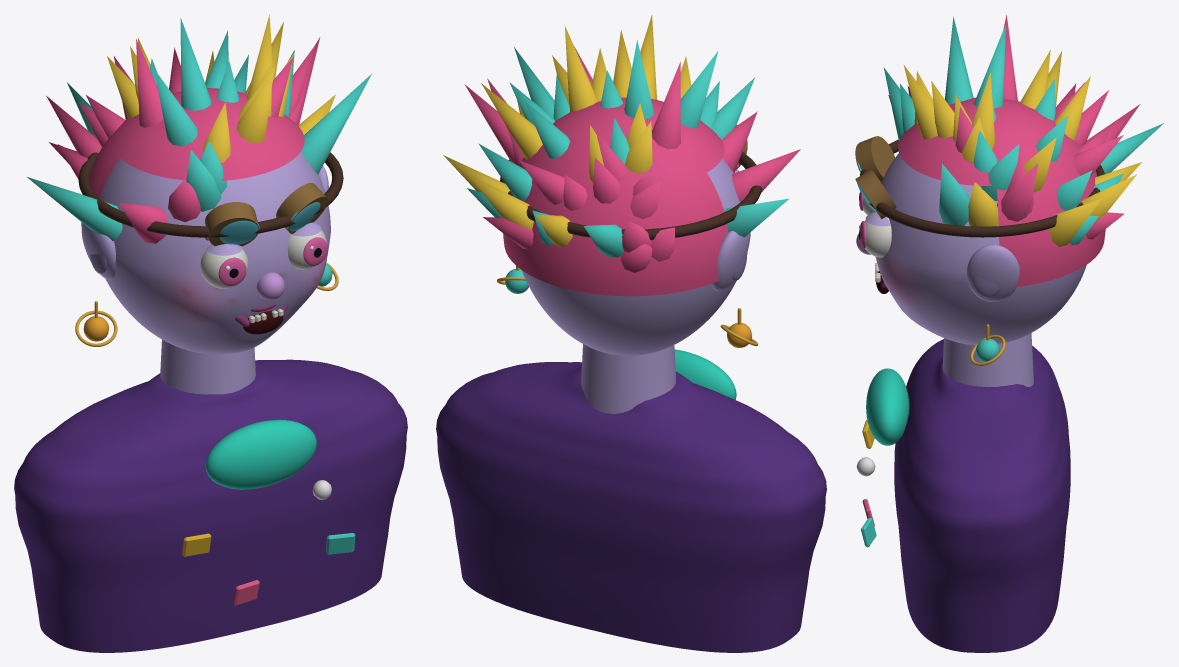
Rendered from magnate_zizi.fbx.
3 views of the same model, side by side, from view 1: azimuth 30°, elevation 25°; view 2: azimuth 150°, elevation 25°; view 3: azimuth 270°, elevation 25° (orthographic). The views are drawn at different scales.
Visible parts, largest first — view 1: magnate_zizi, magnate_zizi__head; view 2: magnate_zizi, magnate_zizi__head; view 3: magnate_zizi__head, magnate_zizi.
Part boxes in pixels (bbox=[...]): magnate_zizi: bbox=[14, 339, 407, 652]; magnate_zizi__head: bbox=[27, 14, 371, 354]; magnate_zizi: bbox=[436, 344, 826, 652]; magnate_zizi__head: bbox=[443, 15, 800, 355]; magnate_zizi__head: bbox=[855, 15, 1163, 365]; magnate_zizi: bbox=[856, 333, 1070, 652].
Bounding box in the file's own units: 1.49 × 2.23 × 1.14.
